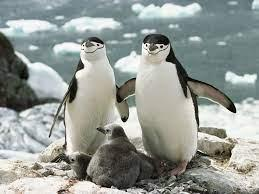chinstrap: (122, 34, 240, 168), (46, 30, 133, 167)
